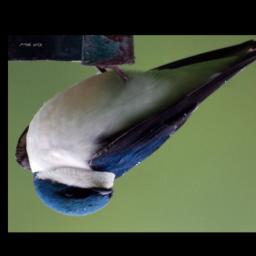Swallow: (14, 36, 256, 217)
